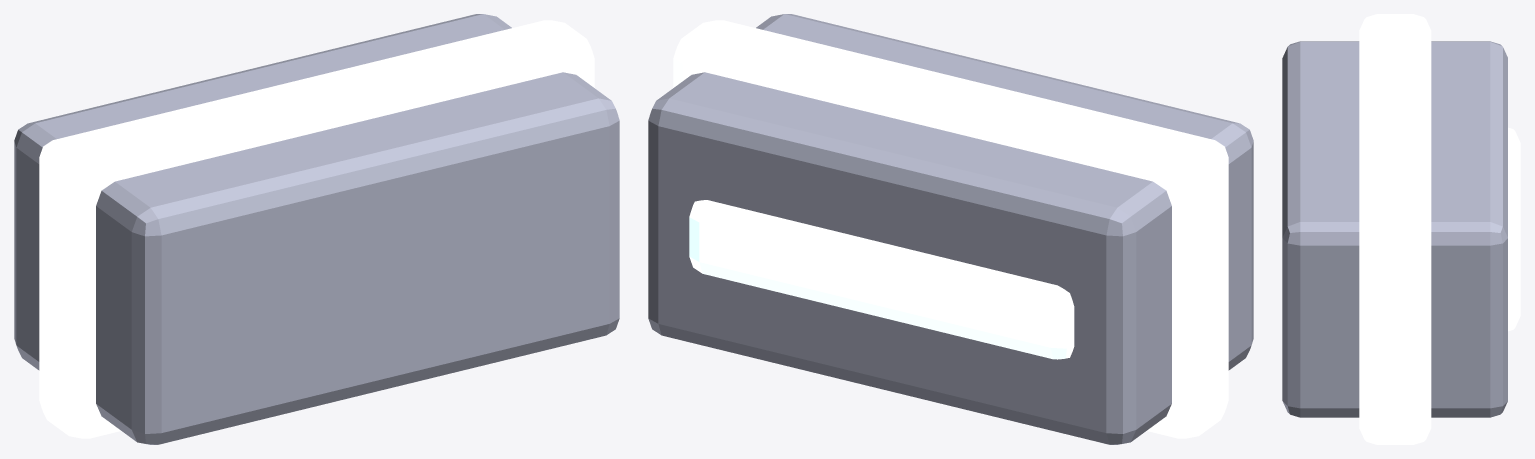
The model's file is brick.glb.
The picture shows the model from 3 angles, left to right: view 1: azimuth 30°, elevation 25°; view 2: azimuth 150°, elevation 25°; view 3: azimuth 270°, elevation 25°; orthographic projection. The views are drawn at different scales.
Visible parts, largest first — view 1: brick; view 2: brick; view 3: brick.
Boxes of the visible parts, x1=… form: brick: x1=14, y1=14, x2=619, y2=444; brick: x1=648, y1=14, x2=1253, y2=444; brick: x1=1282, y1=14, x2=1520, y2=444.
Size of the model in its own units: 0.98 by 0.5 by 0.4642.
